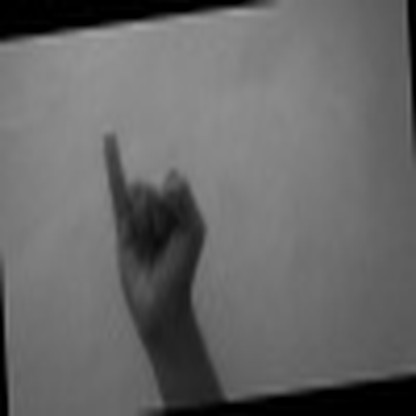i: (94, 124, 211, 324)
